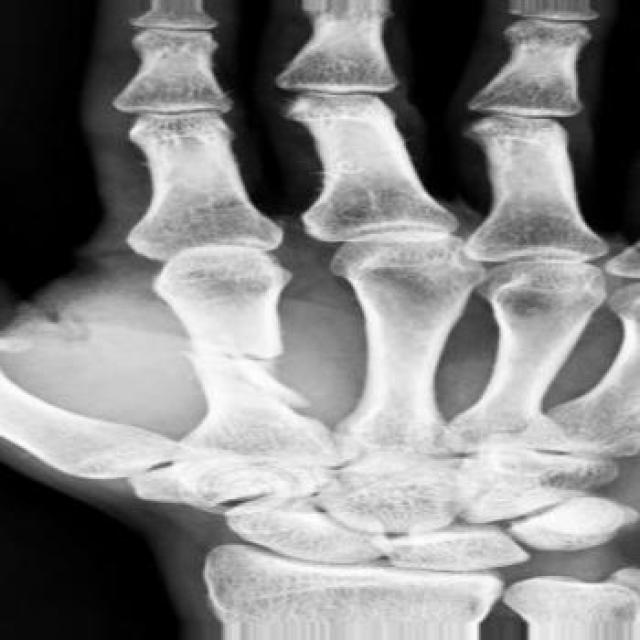Fracture: (172, 336, 302, 375)
